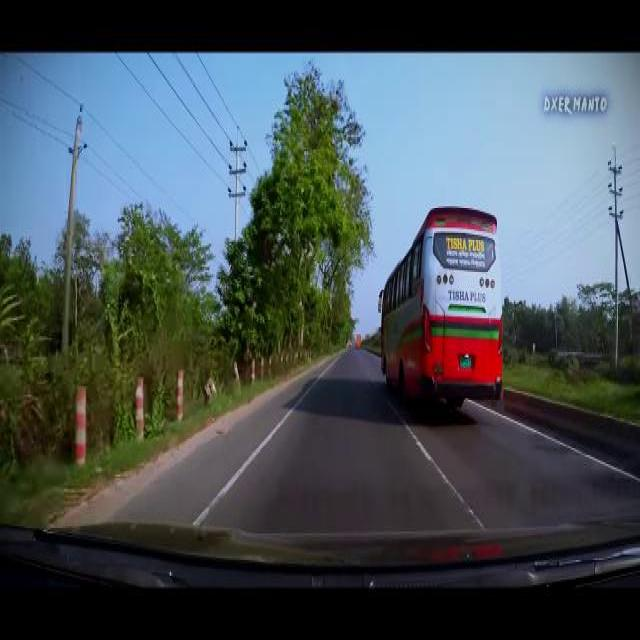Truck: (380, 204, 502, 403)
